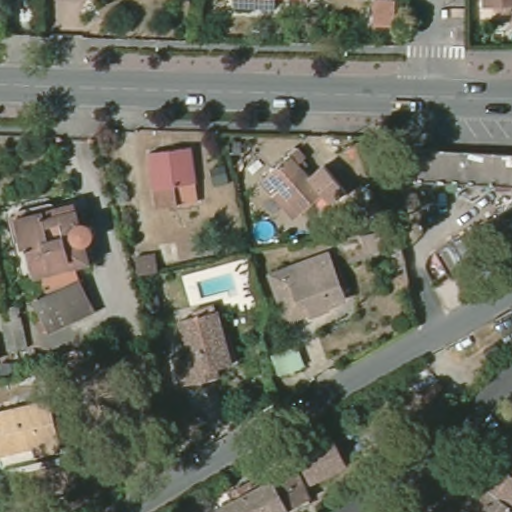pool: (196, 268, 241, 302), (252, 217, 278, 246)
